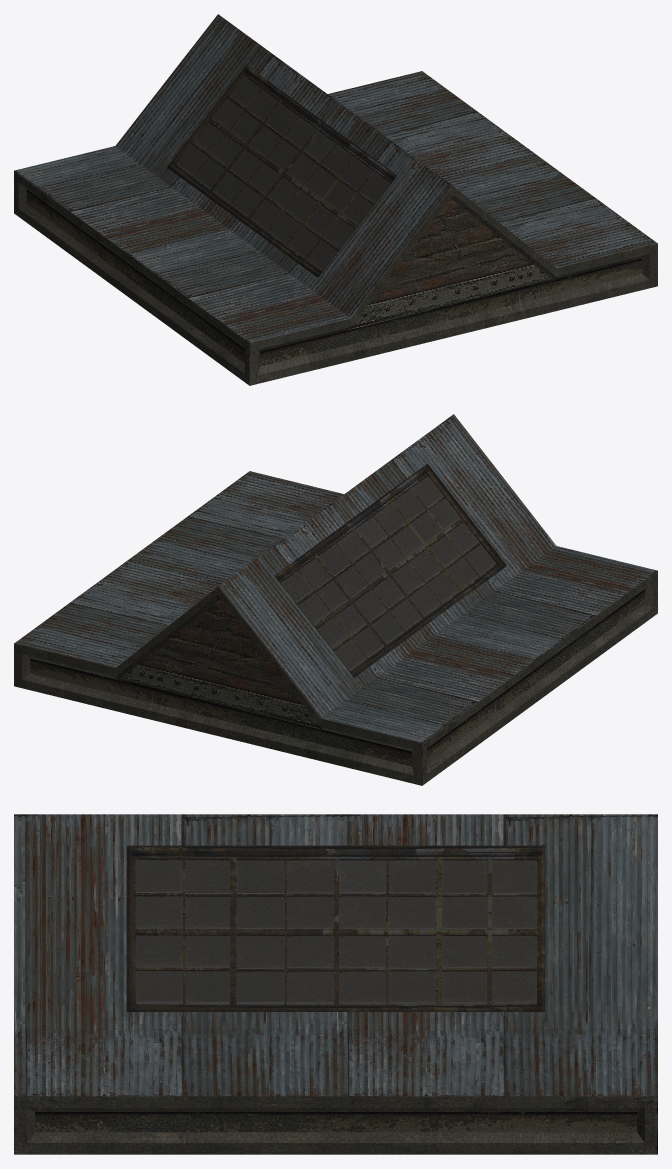
The model's file is roof_bx_1.glb.
3 renders of one model, top to bottom at view 1: azimuth 30°, elevation 25°; view 2: azimuth 150°, elevation 25°; view 3: azimuth 270°, elevation 25°, orthographic. The views are drawn at different scales.
Parts seen in each view (by area): view 1: roof_bx_1; view 2: roof_bx_1; view 3: roof_bx_1.
Boxes of the visible parts, x1,y1,x2,y2 form: roof_bx_1: [14, 14, 657, 385]; roof_bx_1: [14, 414, 657, 785]; roof_bx_1: [14, 814, 657, 1154].
Bounding box in the file's own units: 4 × 1.4 × 4.
Materials: 4 (4 with a texture image).
